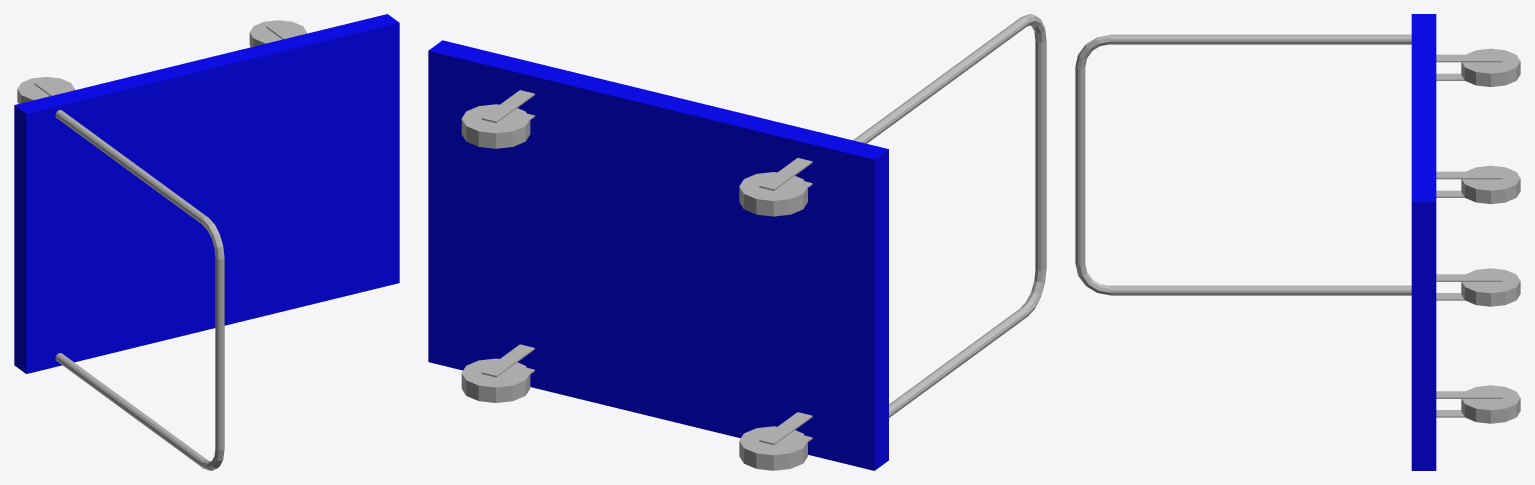
Rendered from nil_link_mesh.dae.
3 renders of one model, left to right at view 1: azimuth 30°, elevation 25°; view 2: azimuth 150°, elevation 25°; view 3: azimuth 270°, elevation 25°, orthographic. The views are drawn at different scales.
Visible parts, largest first — view 1: nil_link (×7); view 2: nil_link (×12); view 3: nil_link (×12).
Boxes of the visible parts, bbox=[...] form: nil_link (×7): bbox=[14, 14, 399, 468]; nil_link (×12): bbox=[428, 17, 1046, 470]; nil_link (×12): bbox=[1075, 14, 1520, 470].
Bounding box in the file's own units: 0.9 × 0.6 × 0.9.
